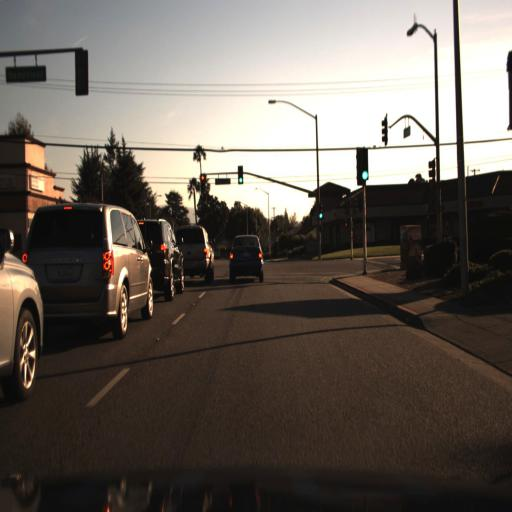car: (44, 189, 154, 352), (151, 212, 188, 305), (181, 212, 219, 285), (226, 230, 267, 288)
trafficLight-Green: (355, 145, 371, 186), (357, 148, 372, 184), (234, 159, 244, 189), (315, 200, 325, 224)
trafficLight-RedLeft: (196, 167, 205, 193)
